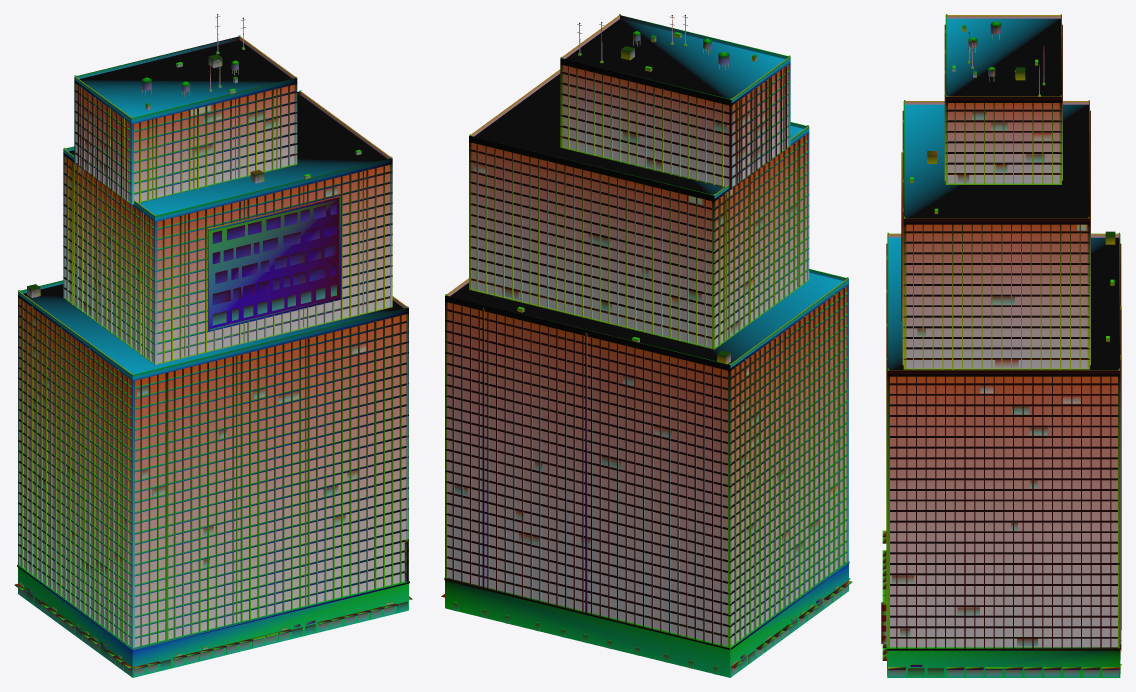
Rendered from Tower_Colossus.fbx.
3 views of the same model, side by side, from view 1: azimuth 30°, elevation 25°; view 2: azimuth 150°, elevation 25°; view 3: azimuth 270°, elevation 25° (orthographic). The views are drawn at different scales.
Parts seen in each view (by area): view 1: Tower_Colossus_LOD0; view 2: Tower_Colossus_LOD0; view 3: Tower_Colossus_LOD0.
Part boxes in pixels (x1=…): Tower_Colossus_LOD0: x1=14, y1=14, x2=412, y2=677; Tower_Colossus_LOD0: x1=441, y1=14, x2=852, y2=677; Tower_Colossus_LOD0: x1=881, y1=14, x2=1121, y2=677.
Size of what is drawn, in the model's own units: 103 by 196 by 74.31.
